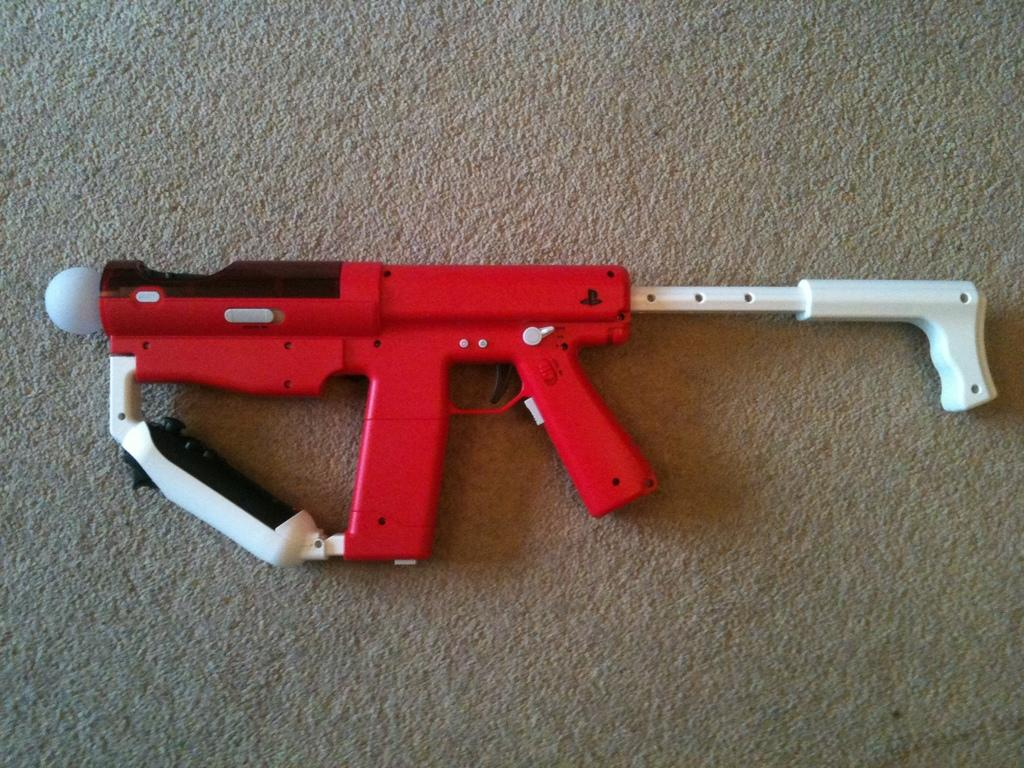Handgun: (37, 257, 1001, 571)
